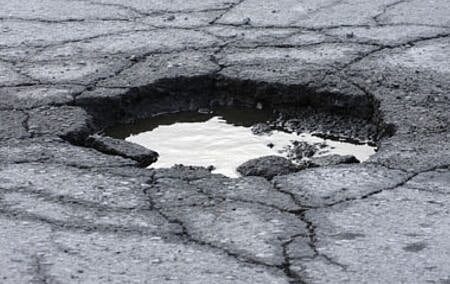Hole_in_the_road: (67, 67, 401, 205)
